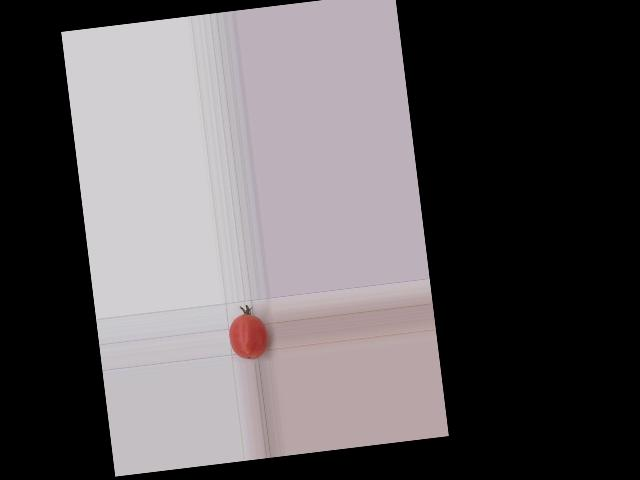tomato: (226, 312, 269, 361)
